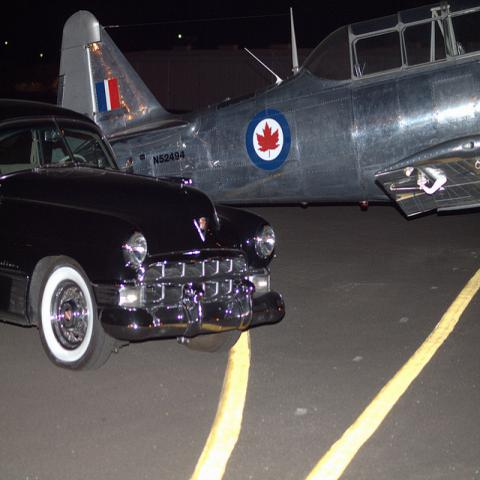car: (2, 102, 290, 372)
